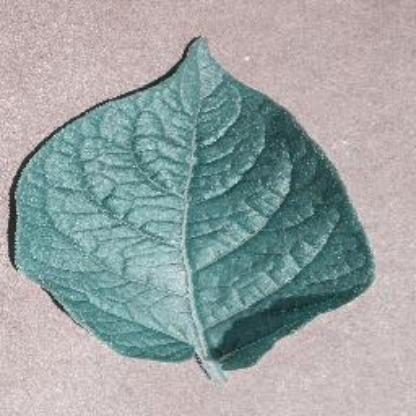Healthy-plant: (13, 30, 379, 382)
